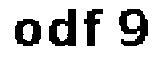9: (116, 8, 150, 50)
d: (48, 7, 79, 48)
f: (82, 7, 105, 49)
o: (11, 16, 42, 49)
